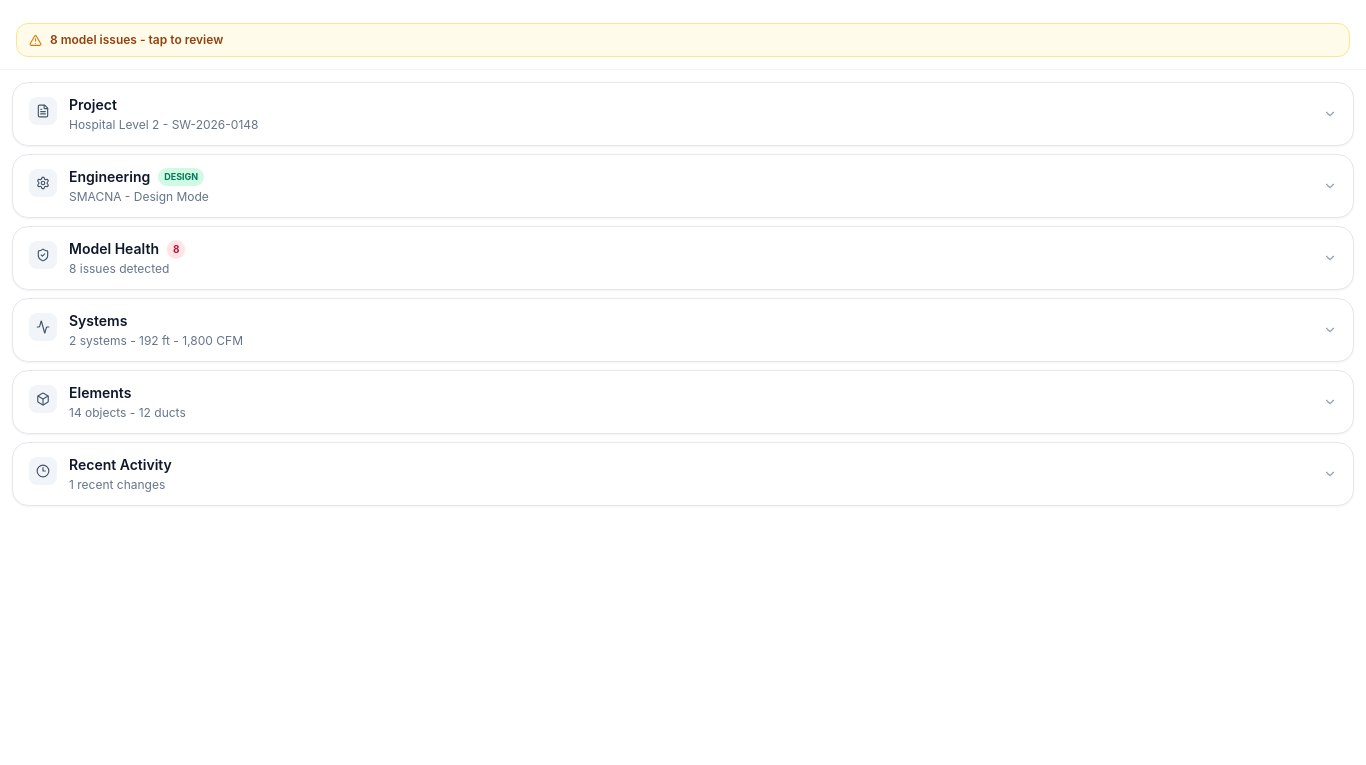
InspectorOverviewPanel › keeps zero-count element rows visible
Click the button "Elements 14 objects - 12 ducts" at (100, 392), box [13,371,1353,433]
(page scrolled)
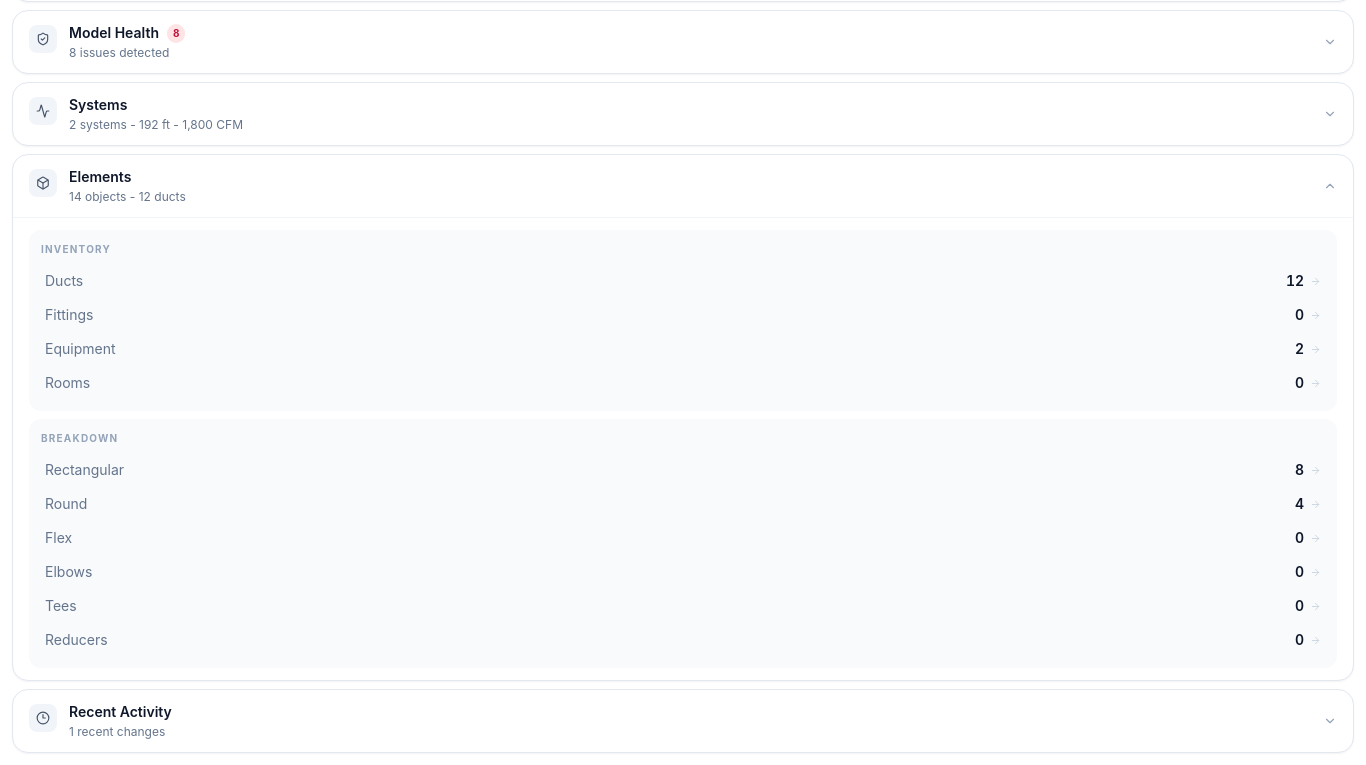
expect the 1st text "0" is shown: met, box [1295,305,1304,325]
expect the 4th text "0" is shown: met, box [1295,562,1304,582]
